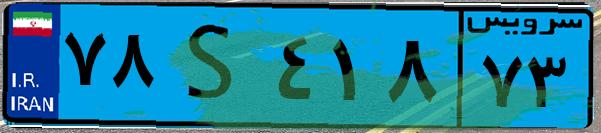1: (330, 28, 385, 110)
3: (525, 38, 570, 115)
4: (270, 28, 330, 110)
7: (57, 26, 110, 100), (475, 38, 525, 113)
8: (385, 28, 445, 110), (110, 28, 158, 98)
S: (158, 12, 270, 120)
